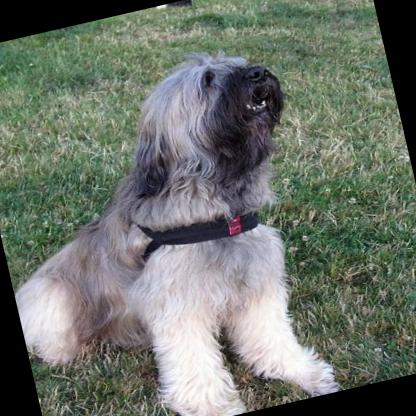briard: (0, 36, 350, 416)
